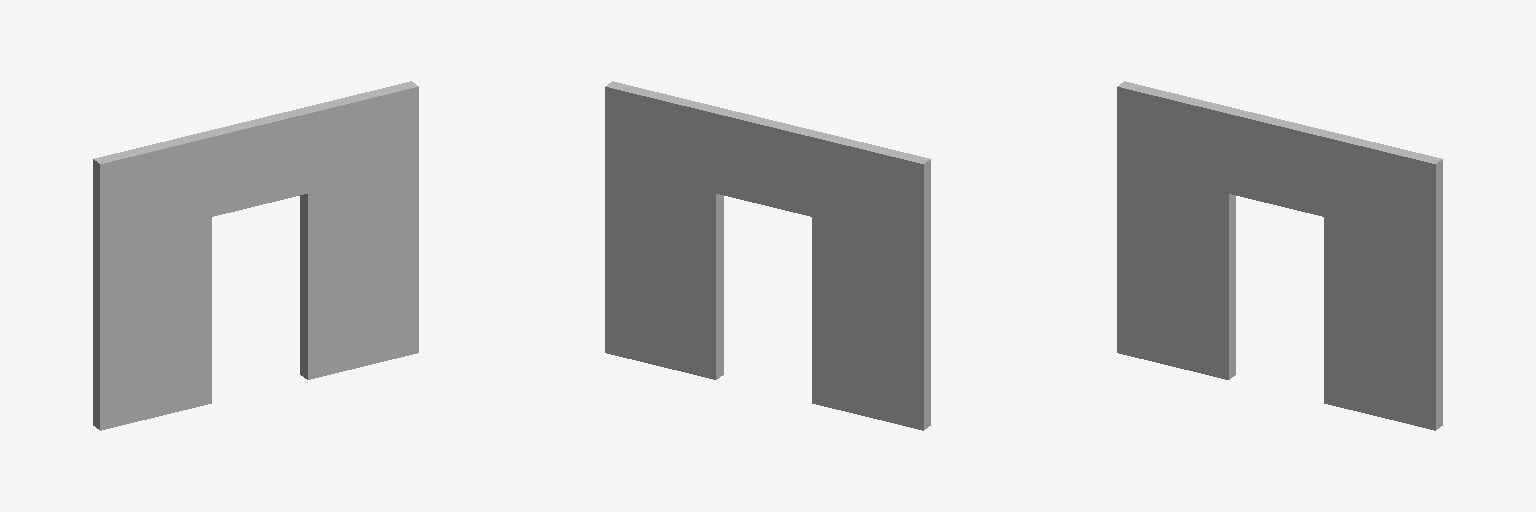
File: parede_7.obj
The picture shows the model from 3 angles: view 1: azimuth 30°, elevation 25°; view 2: azimuth 150°, elevation 25°; view 3: azimuth 330°, elevation 25°; orthographic projection.
Parts seen in each view (by area): view 1: parede_7_Cube.002; view 2: parede_7_Cube.002; view 3: parede_7_Cube.002.
Boxes of the visible parts, x1,y1,x2,y2 form: parede_7_Cube.002: [93, 81, 418, 430]; parede_7_Cube.002: [605, 81, 930, 430]; parede_7_Cube.002: [1117, 81, 1442, 430].
Bounding box in the file's own units: 5 × 4 × 0.2.